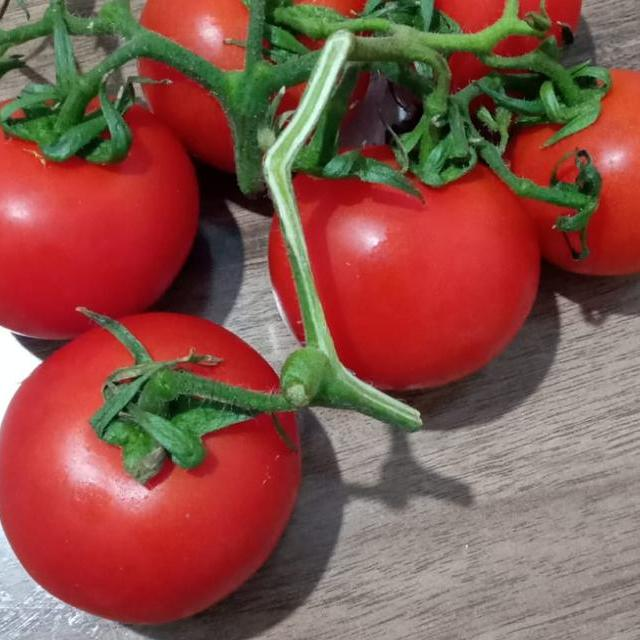tomato: (0, 297, 332, 640), (255, 85, 548, 432), (0, 45, 220, 342), (105, 0, 375, 172), (475, 17, 640, 297), (355, 0, 602, 87)
